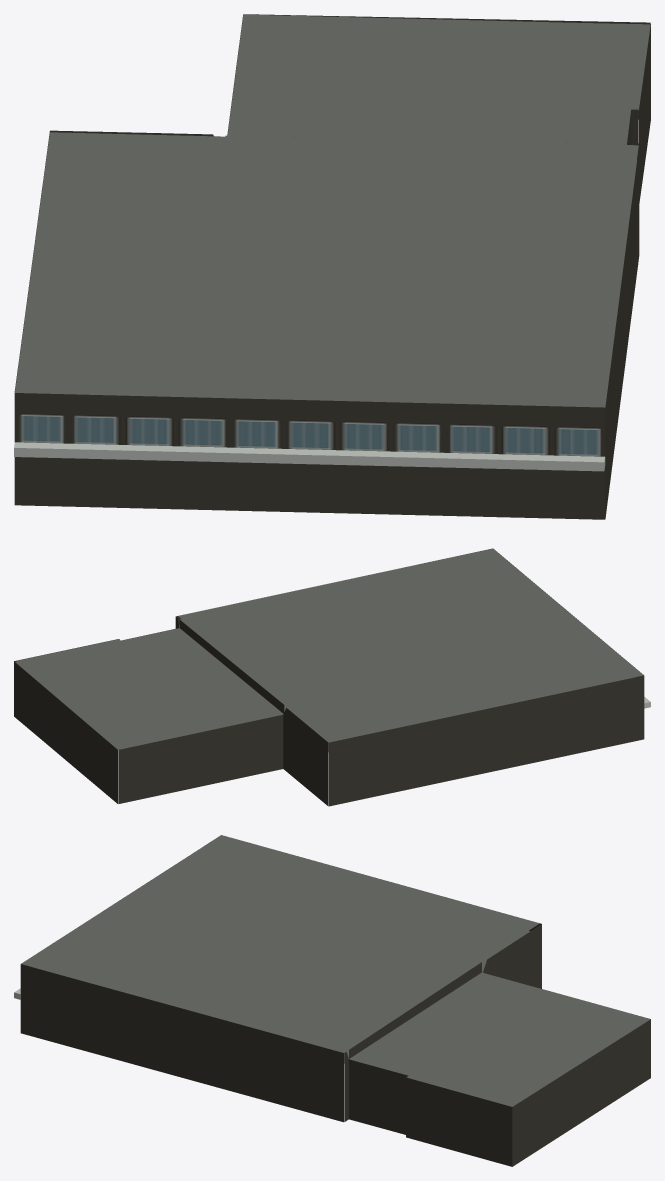
3 renders of one model, top to bottom at view 1: azimuth 30°, elevation 25°; view 2: azimuth 150°, elevation 25°; view 3: azimuth 270°, elevation 25°, orthographic. The views are drawn at different scales.
Parts seen in each view (by area): view 1: 0363100012074248; view 2: 0363100012074248; view 3: 0363100012074248.
Part boxes in pixels (<box>): 0363100012074248: <box>14,14,650,519</box>; 0363100012074248: <box>14,548,650,806</box>; 0363100012074248: <box>14,835,650,1166</box>.
Size of the model in its own units: 75.42 by 9.22 by 76.77.
3 materials, 1 textured.
